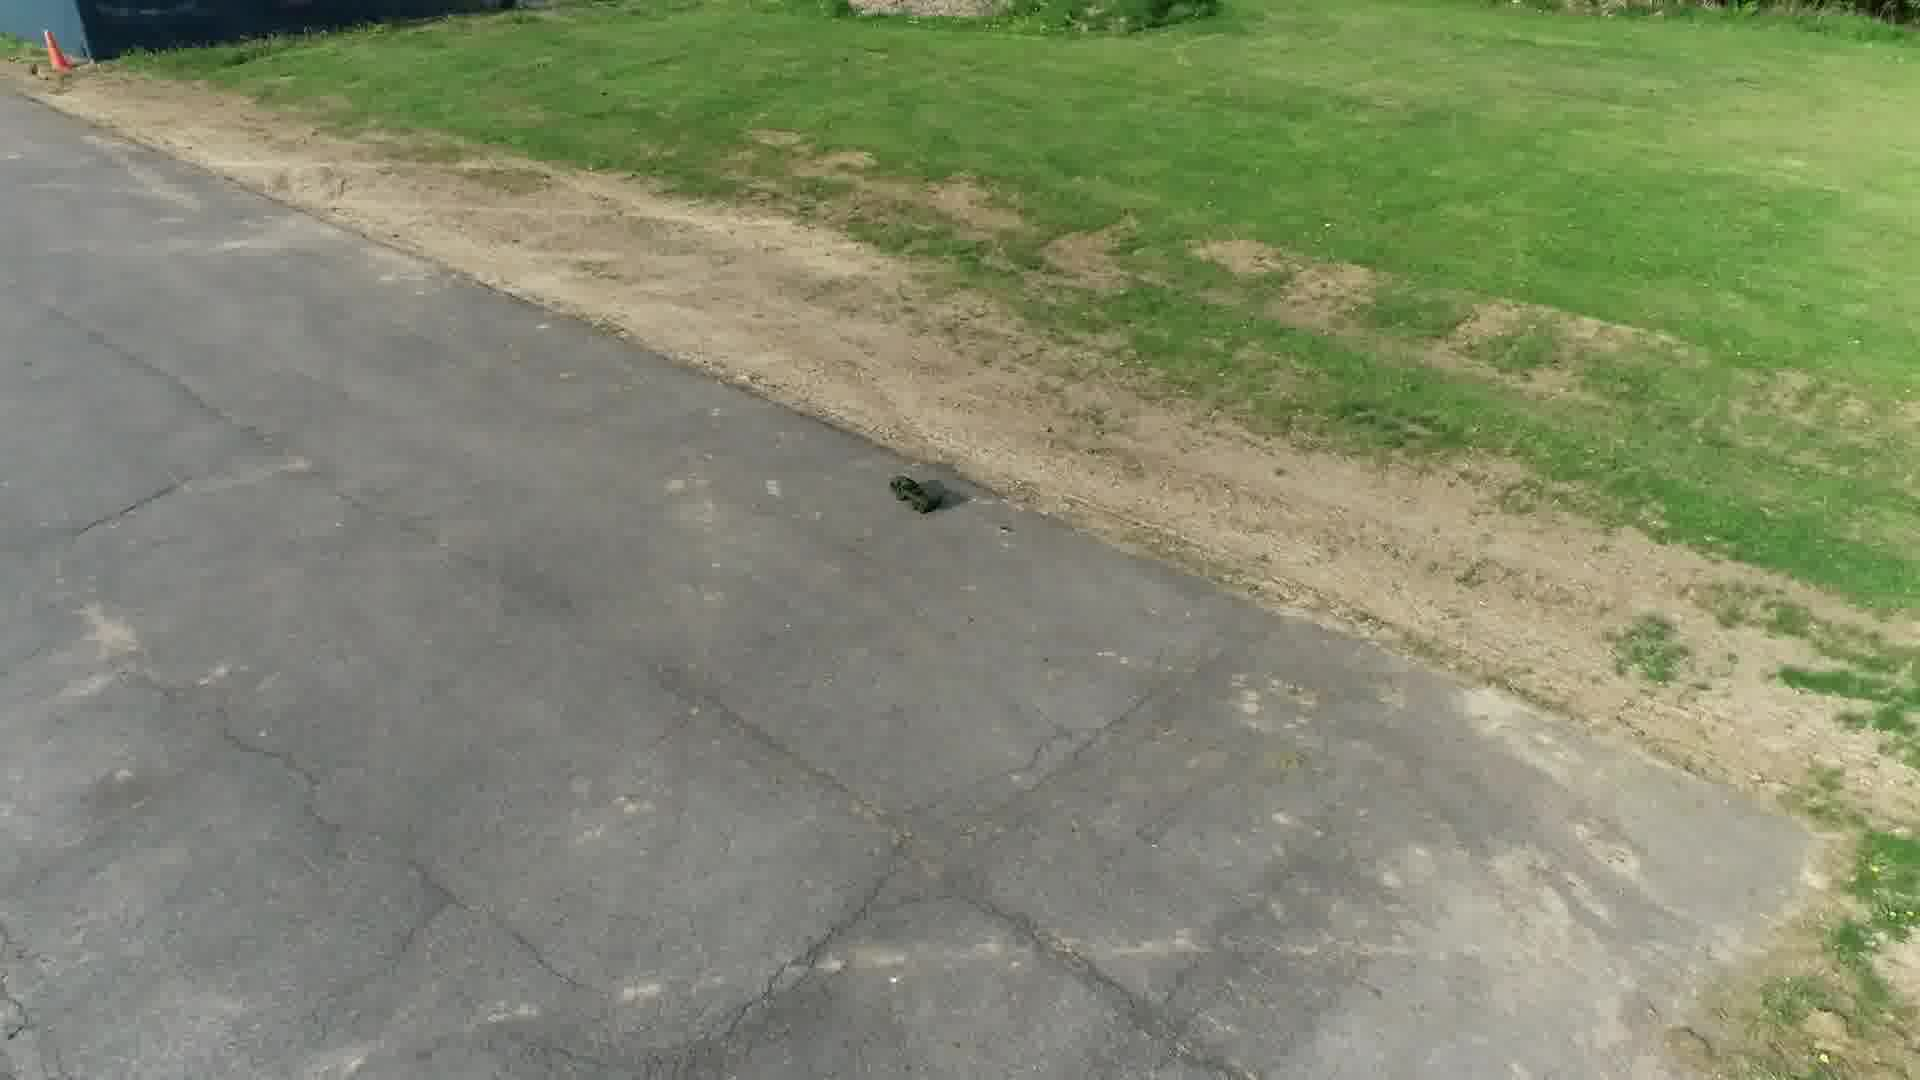transporter9: (887, 473, 944, 516)
